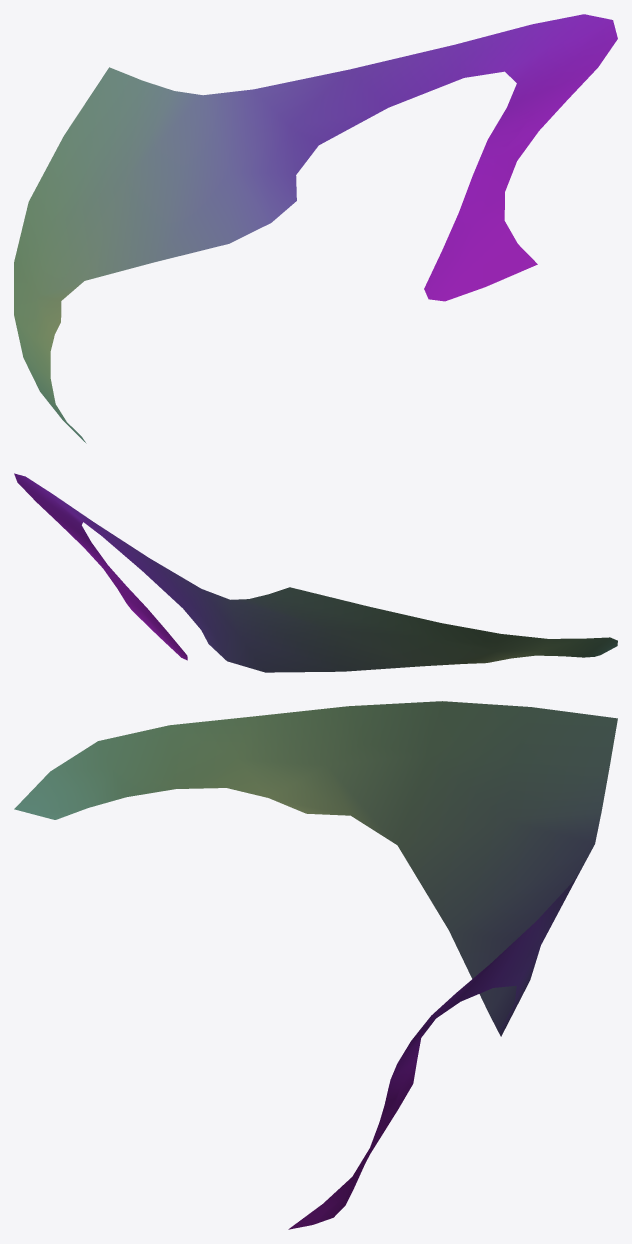
Rendered from space-nebulae-nebula_v46.glb.
3 views of the same model, one above another, from view 1: azimuth 30°, elevation 25°; view 2: azimuth 150°, elevation 25°; view 3: azimuth 270°, elevation 25° (orthographic). The views are drawn at different scales.
Parts seen in each view (by area): view 1: Nebula_v46; view 2: Nebula_v46; view 3: Nebula_v46.
Part boxes in pixels (x1,y1,x2,y2): Nebula_v46: [14, 14, 617, 443]; Nebula_v46: [14, 473, 617, 672]; Nebula_v46: [14, 701, 617, 1229].
Size of the model in its own units: 0.5 by 0.1561 by 0.2612.
